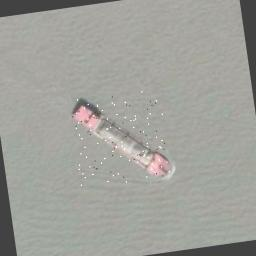boat: (68, 87, 172, 188)
